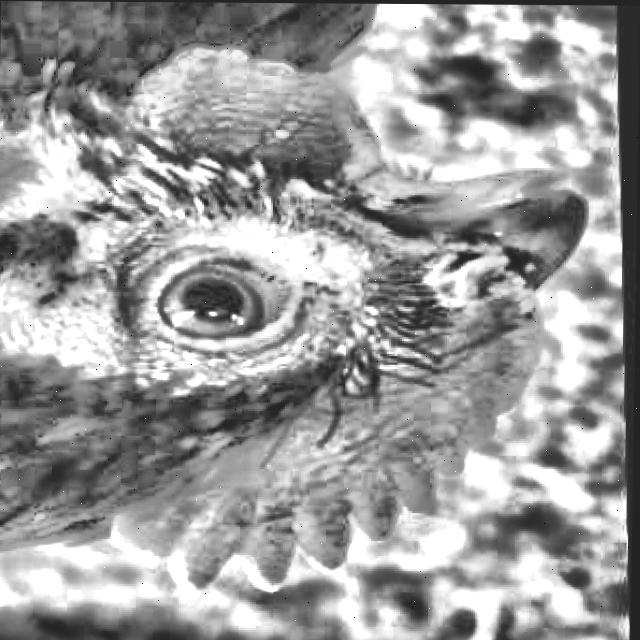Healthy: (84, 229, 328, 393)
